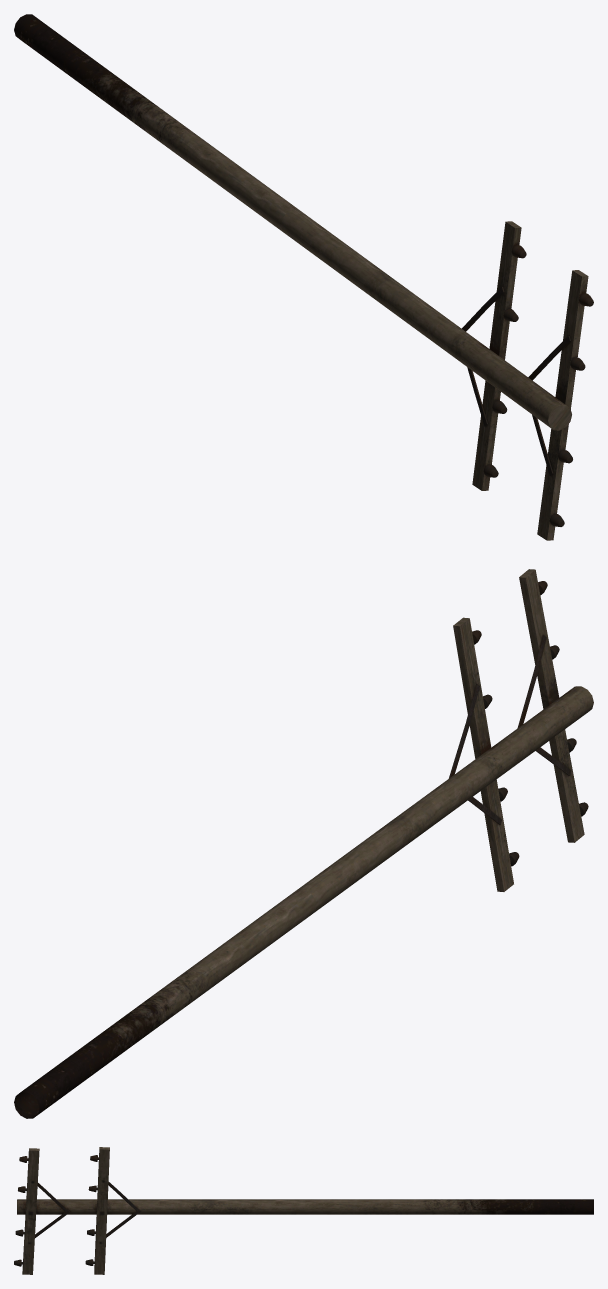
The model's file is hd_env_101_poles_01.glb.
The picture shows the model from 3 angles, top to bottom: view 1: azimuth 30°, elevation 25°; view 2: azimuth 150°, elevation 25°; view 3: azimuth 270°, elevation 25°; orthographic projection. The views are drawn at different scales.
Visible parts, largest first — view 1: set_0_group_0; view 2: set_0_group_0; view 3: set_0_group_0.
Boxes of the visible parts, x1,y1,x2,y2 form: set_0_group_0: [14, 14, 593, 540]; set_0_group_0: [14, 569, 593, 1118]; set_0_group_0: [14, 1147, 593, 1274].
Size of the model in its own units: 0.5064 by 2.36 by 9.09.
Materials: 1 (1 with a texture image).
